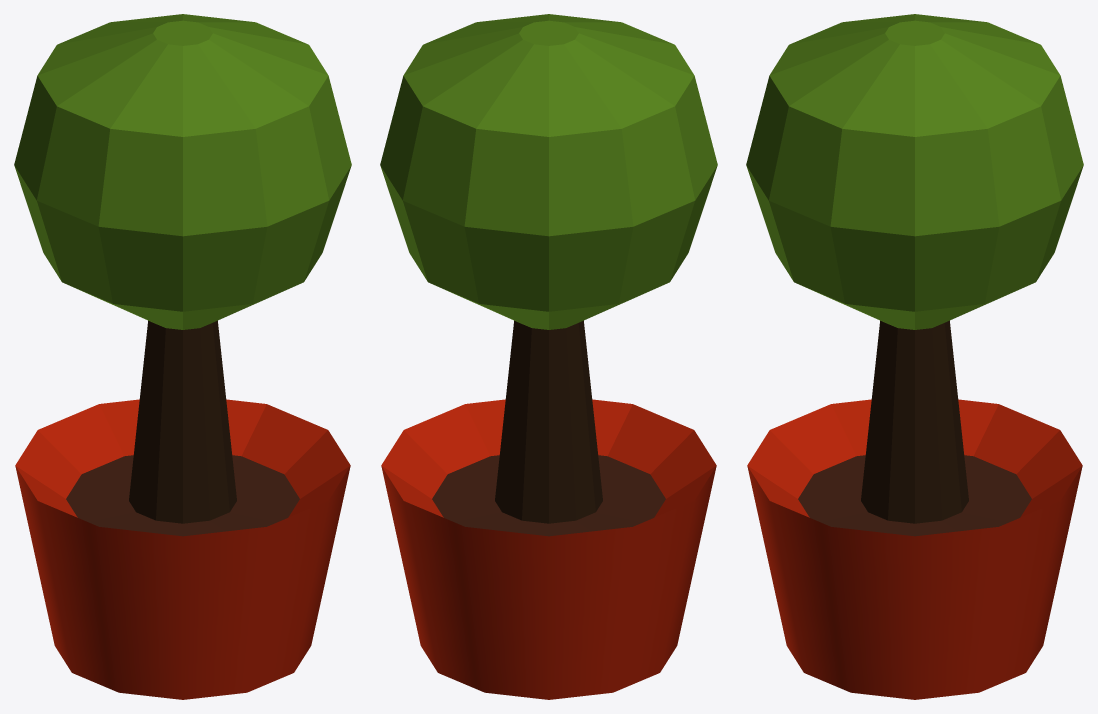
File: Flower Pot.FBX
3 renders of one model, left to right at view 1: azimuth 30°, elevation 25°; view 2: azimuth 150°, elevation 25°; view 3: azimuth 270°, elevation 25°, orthographic.
Visible parts, largest first — view 1: Flower Pot; view 2: Flower Pot; view 3: Flower Pot.
Part boxes in pixels (x1=…): Flower Pot: x1=14, y1=14, x2=351, y2=699; Flower Pot: x1=380, y1=14, x2=717, y2=699; Flower Pot: x1=746, y1=14, x2=1083, y2=699.
Size of the model in its own units: 61.13 by 122 by 61.13.
